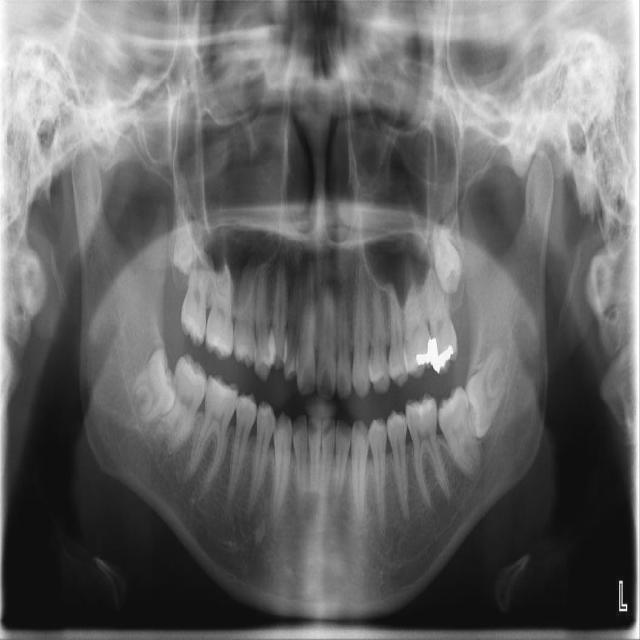Filling: (431, 335, 450, 372), (416, 338, 432, 367)
impacted tooth: (466, 344, 510, 435), (128, 350, 176, 426), (432, 217, 464, 290), (172, 203, 196, 274)
